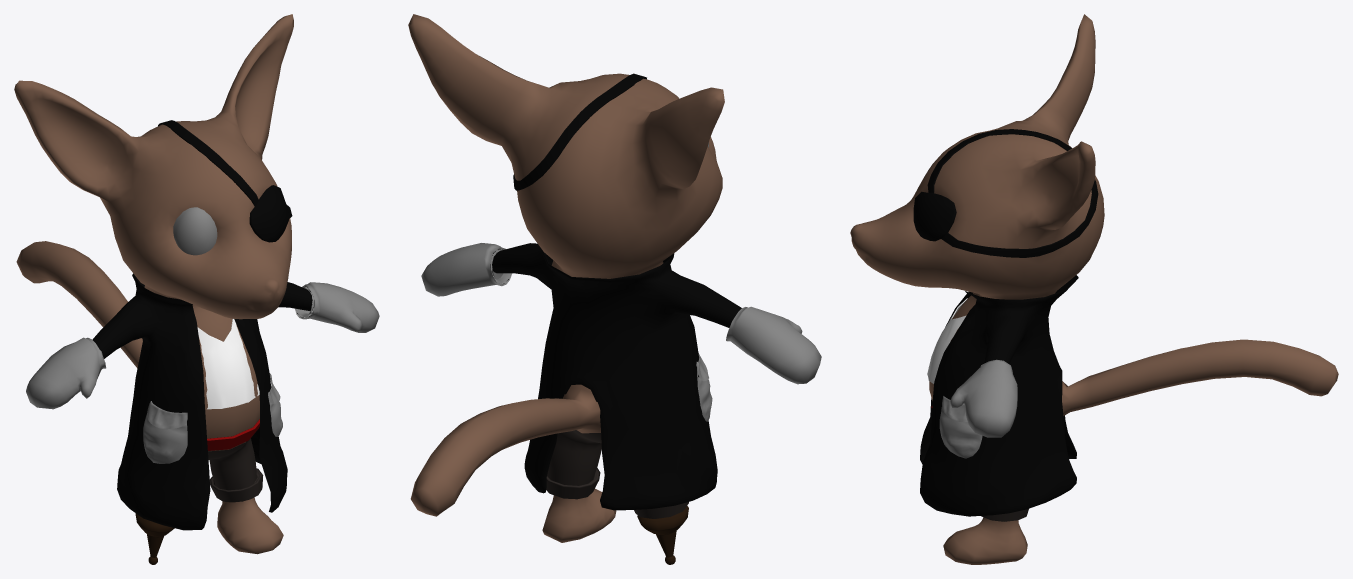
The model's file is Whiskers.fbx.
3 renders of one model, left to right at view 1: azimuth 30°, elevation 25°; view 2: azimuth 150°, elevation 25°; view 3: azimuth 270°, elevation 25°, orthographic. The views are drawn at different scales.
Visible parts, largest first — view 1: _low5, _low10 (×2), _low9, _low7, _low1, _low6, _low4, _low3, _low8; view 2: _low5, _low10 (×2), _low9, _low6, _low1, _low3; view 3: _low5, _low10 (×2), _low1, _low9, _low7.
Part boxes in pixels (x1,y1,x2,y2): _low5: (14,14,293,554); _low10 (×2): (92,273,312,530); _low9: (26,282,379,409); _low7: (197,319,259,409); _low1: (158,120,292,242); _low6: (208,428,263,502); _low4: (173,207,217,255); _low3: (135,513,174,557); _low8: (207,419,259,450); _low5: (408,14,724,542); _low10 (×2): (492,243,741,510); _low9: (421,243,821,384); _low6: (546,430,688,518); _low1: (513,73,646,190); _low3: (637,506,688,557); _low5: (850,14,1338,564); _low10 (×2): (920,275,1078,516); _low1: (913,129,1098,257); _low9: (950,359,1017,437); _low7: (927,298,967,383).
Bounding box in the file's own units: 5.21 × 6.81 × 6.49.
